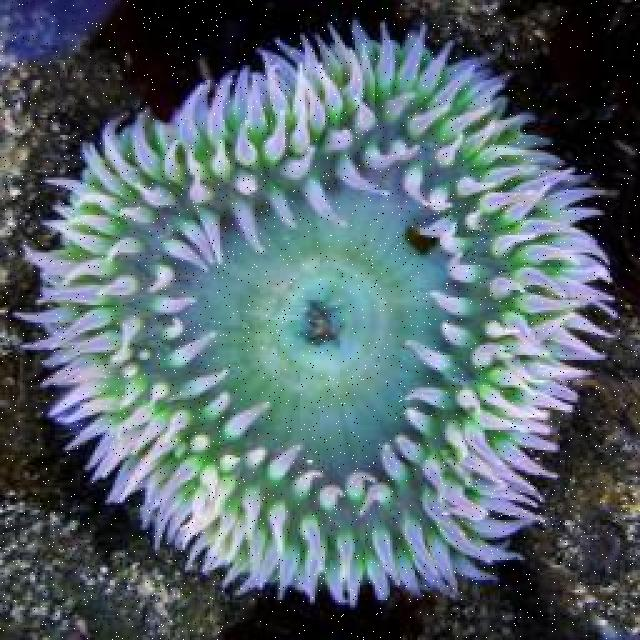reefs: (12, 18, 620, 608)
